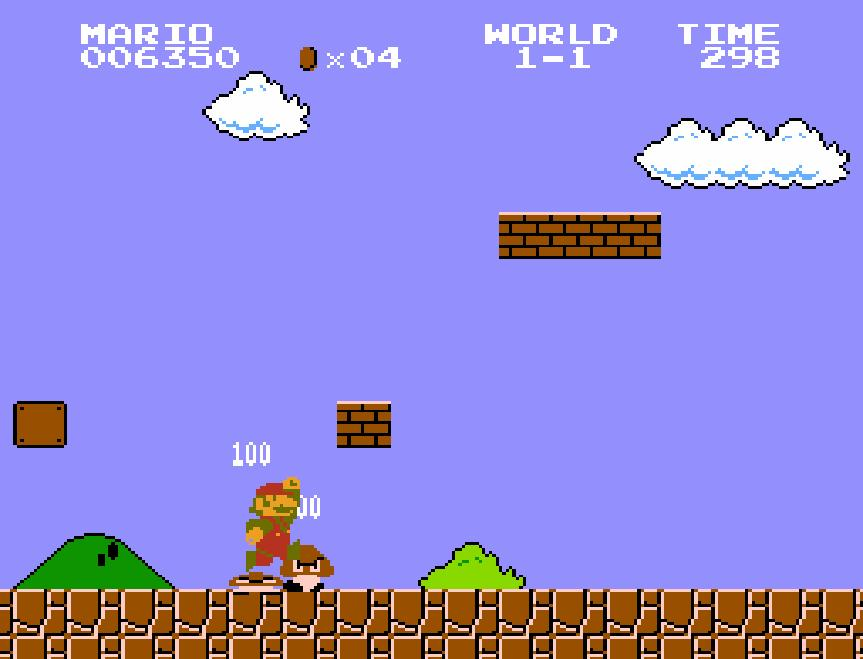big_mario: (244, 476, 302, 574)
